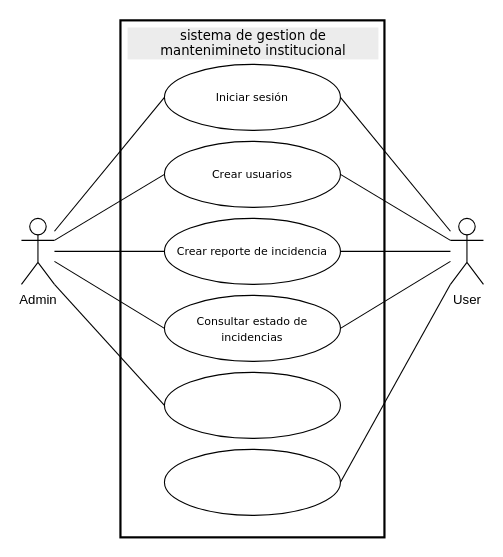
Some shapes in this 503 by 557 pixel diagram are drawn without their labels. The shapes that lost their labels are listed below. From the top down, each one's centre as x and y in pixels, then its label:
point (251, 404): Asignar Incidencia
point (251, 481): Atender incidencia asignada
